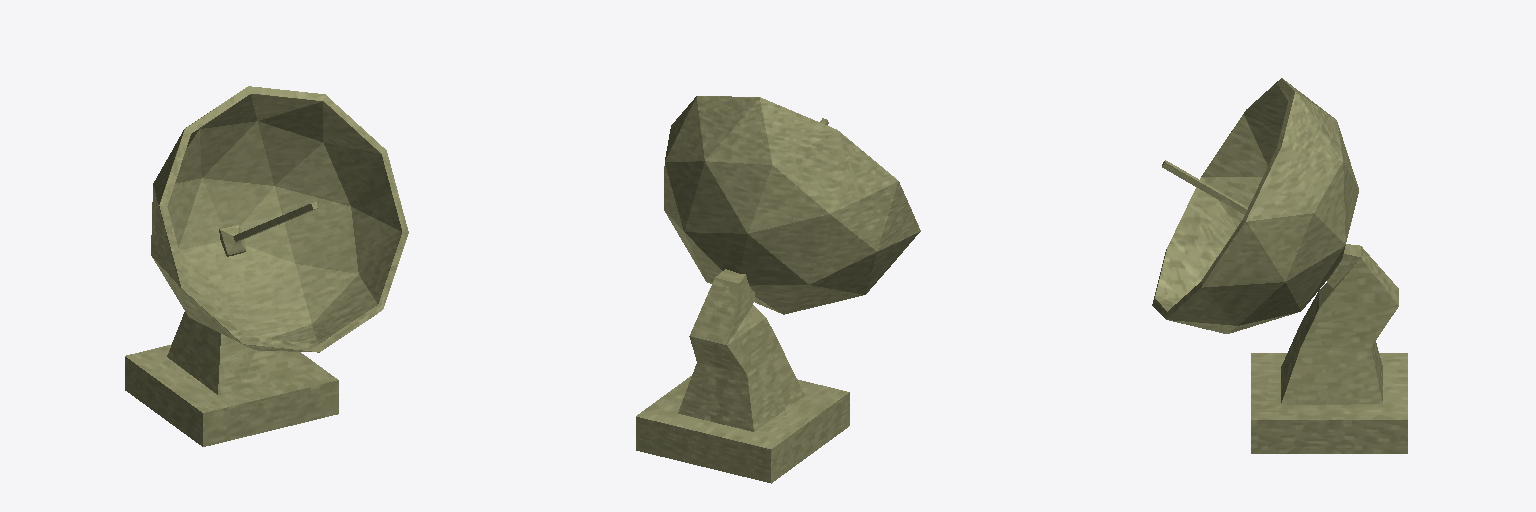
3 renders of one model, left to right at view 1: azimuth 30°, elevation 25°; view 2: azimuth 150°, elevation 25°; view 3: azimuth 270°, elevation 25°, orthographic.
Parts seen in each view (by area): view 1: Satellite_Cube.001; view 2: Satellite_Cube.001; view 3: Satellite_Cube.001.
Part boxes in pixels (left/top/right/bottom): Satellite_Cube.001: left=125, top=86, right=408, bottom=446; Satellite_Cube.001: left=636, top=96, right=920, bottom=483; Satellite_Cube.001: left=1152, top=78, right=1407, bottom=453.
Bounding box in the file's own units: 0.9643 × 1.33 × 0.9395.
Materials: 1 (1 with a texture image).